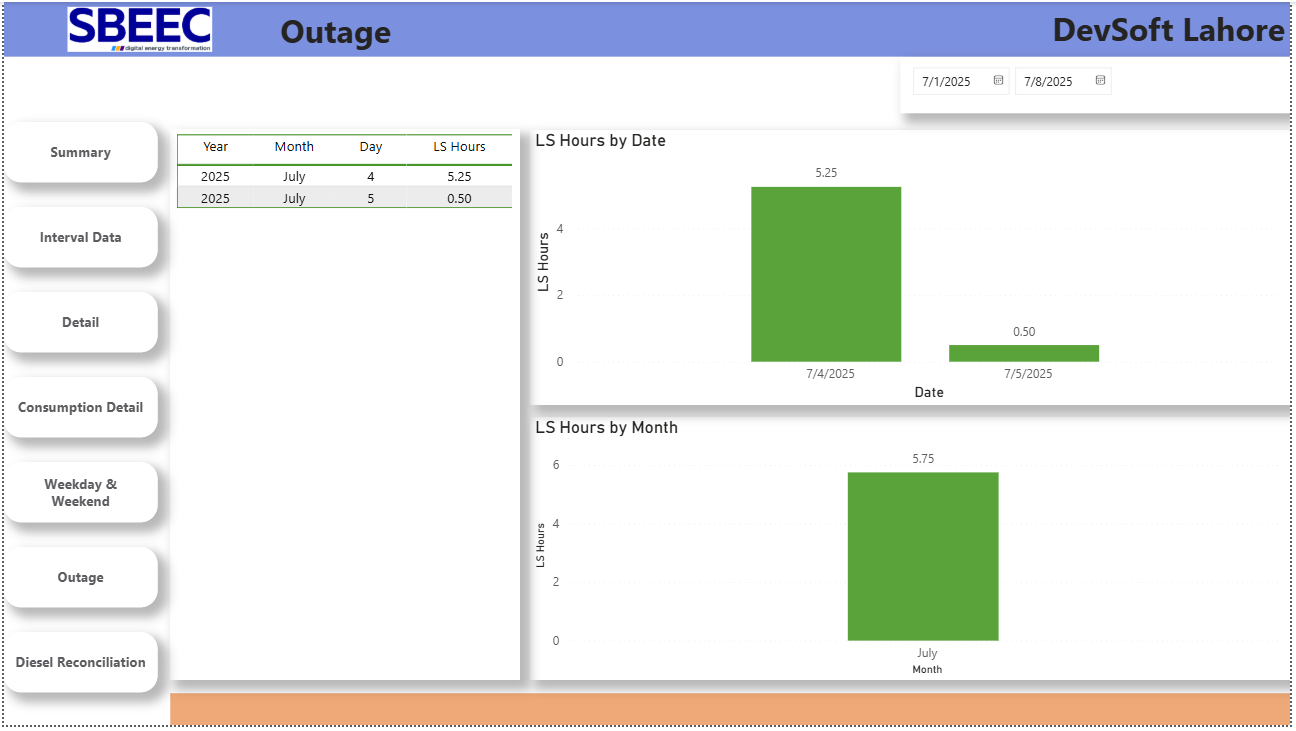

This screenshot's page, from the dashboard's own definition file:
{"tool":"powerbi","page":{"name":"DevSoft Lahore : Outage","canvas":[1280,720],"ordinal":5},"visuals":[{"type":"textbox","box":[0,0,1280,54.3],"z":0},{"type":"image","box":[0,0,269.9,54.3],"z":1000},{"type":"textbox","box":[269.9,1.4,346.4,52.9],"z":2000},{"type":"slicer","fields":{"Values":["Calendar.Date"]},"box":[891.8,54.3,388.2,55.7],"z":3000},{"type":"textbox","box":[165.6,687.3,1114.4,33.4],"z":4000},{"type":"tableEx","fields":{"Values":["Calendar.Date.Variation.Date Hierarchy.Year","Calendar.Date.Variation.Date Hierarchy.Month","Calendar.Date.Variation.Date Hierarchy.Day","Key Measure.LS Hours"]},"box":[165.6,126.6,347.8,548.2],"z":5000},{"type":"columnChart","fields":{"Y":["Key Measure.Runtime (Hours)"],"Category":["Jefff_Heights_Diesel_MCM_ampere_recon.Date"]},"box":[523.1,126.6,756.9,274.1],"z":6000},{"type":"columnChart","fields":{"Y":["Key Measure.Runtime (Hours)"],"Category":["Calendar.Date.Variation.Date Hierarchy.Month"]},"box":[523.1,413.2,756.9,261.6],"z":7000},{"type":"actionButton","box":[0,119.7,153,59.8],"z":8000},{"type":"actionButton","box":[0,204.3,153,59.8],"z":9000},{"type":"actionButton","box":[0,288.9,153,59.8],"z":10000},{"type":"actionButton","box":[0,373.6,153,59.8],"z":11000},{"type":"actionButton","box":[0,458.2,153,59.8],"z":12000},{"type":"actionButton","box":[0,542.8,153,59.8],"z":13000},{"type":"actionButton","box":[0,627.5,153,59.8],"z":14000}]}

Visuals, with their boxes in screenshot pixels (x1, y1, x2, y2), scaled from the page's 1280x720 canvas onto the 1296x731 screenshot:
textbox: box(0, 0, 1295, 55)
image: box(0, 0, 273, 55)
textbox: box(273, 1, 624, 55)
slicer - Calendar.Date: box(903, 55, 1295, 112)
textbox: box(168, 698, 1295, 730)
tableEx - Calendar.Date.Variation.Date Hierarchy.Year x Calendar.Date.Variation.Date Hierarchy.Month: box(168, 129, 520, 685)
columnChart - Key Measure.Runtime (Hours) x Jefff_Heights_Diesel_MCM_ampere_recon.Date: box(530, 129, 1295, 407)
columnChart - Key Measure.Runtime (Hours) x Calendar.Date.Variation.Date Hierarchy.Month: box(530, 420, 1295, 685)
actionButton: box(0, 122, 155, 182)
actionButton: box(0, 207, 155, 268)
actionButton: box(0, 293, 155, 354)
actionButton: box(0, 379, 155, 440)
actionButton: box(0, 465, 155, 526)
actionButton: box(0, 551, 155, 612)
actionButton: box(0, 637, 155, 698)
